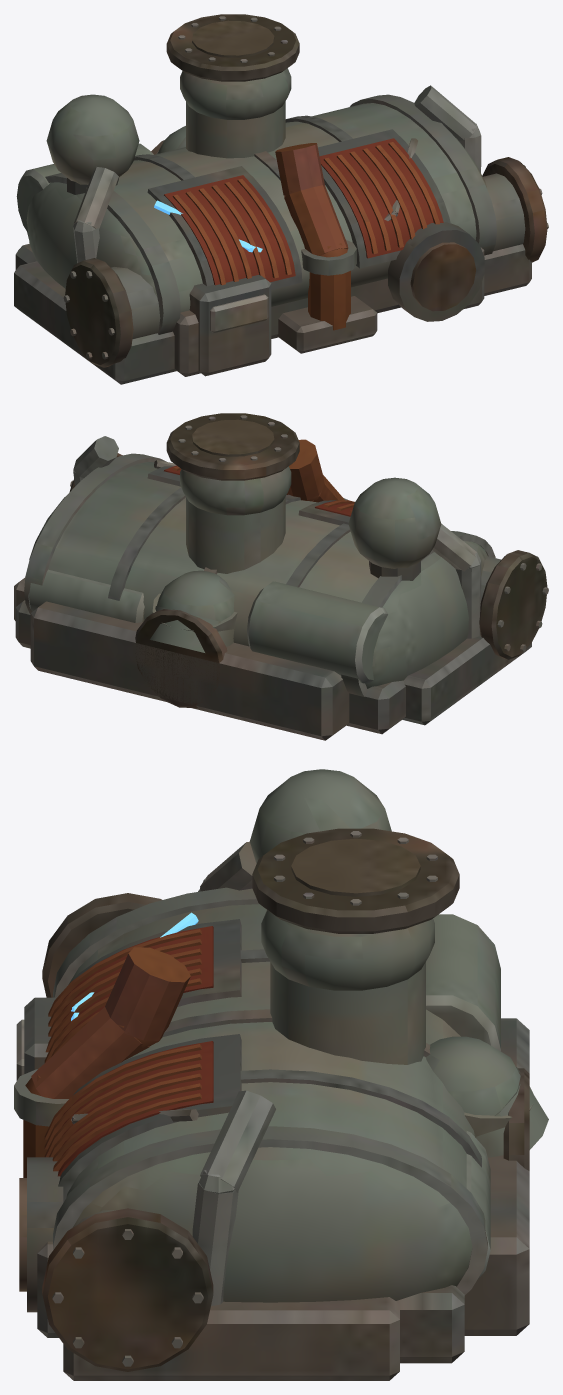
The model's file is heat-exchanger.glb.
The picture shows the model from 3 angles, top to bottom: view 1: azimuth 30°, elevation 25°; view 2: azimuth 150°, elevation 25°; view 3: azimuth 270°, elevation 25°; orthographic projection. The views are drawn at different scales.
Visible parts, largest first — view 1: body, anim_glow_heatex, anim_glow_heat; view 2: body, anim_glow_heat, anim_glow_heatex; view 3: body, anim_glow_heatex, anim_glow_heat.
Part boxes in pixels (left/top/right/bottom): body: left=14, top=14, right=548, bottom=384; anim_glow_heatex: left=164, top=138, right=443, bottom=285; anim_glow_heat: left=275, top=143, right=350, bottom=330; body: left=14, top=413, right=548, bottom=740; anim_glow_heat: left=286, top=439, right=344, bottom=502; anim_glow_heatex: left=164, top=465, right=354, bottom=516; body: left=14, top=769, right=548, bottom=1380; anim_glow_heatex: left=44, top=926, right=213, bottom=1176; anim_glow_heat: left=23, top=947, right=190, bottom=1177.
Size of the model in its own units: 3.04 by 1.55 by 2.06.
4 materials, 4 textured.
